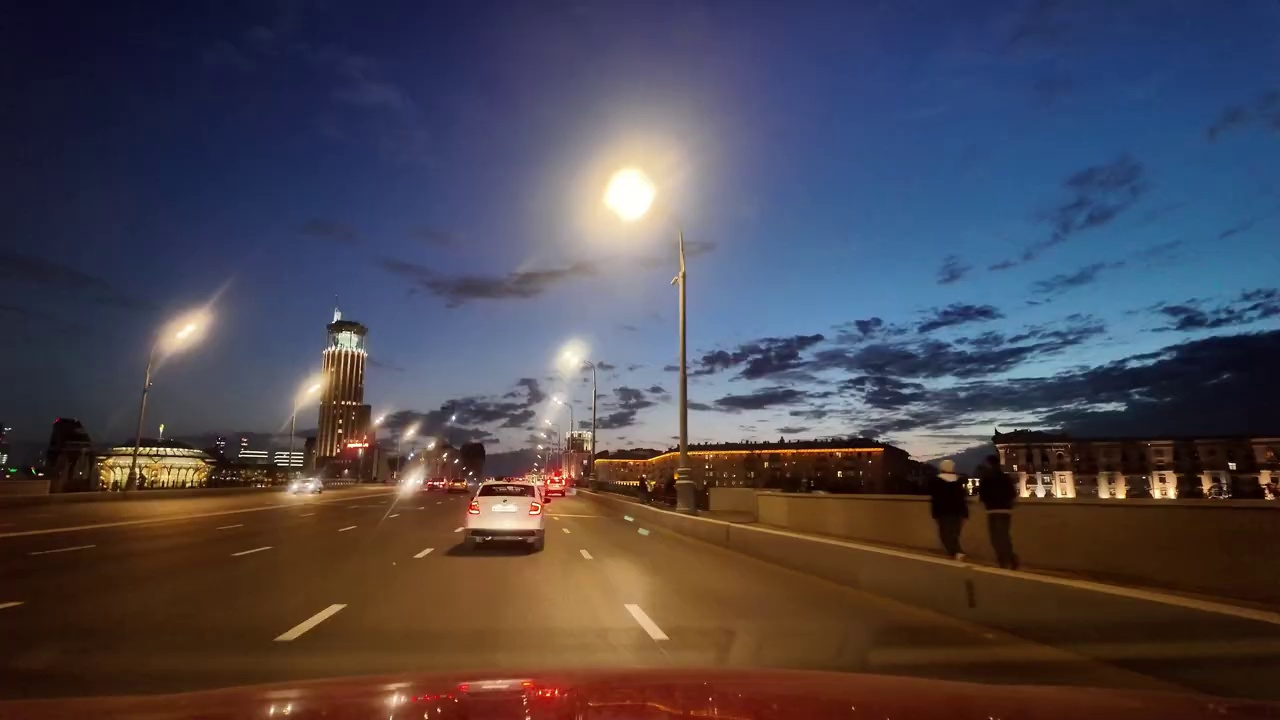acesa: (603, 163, 661, 227), (156, 310, 210, 360), (553, 342, 587, 375)
